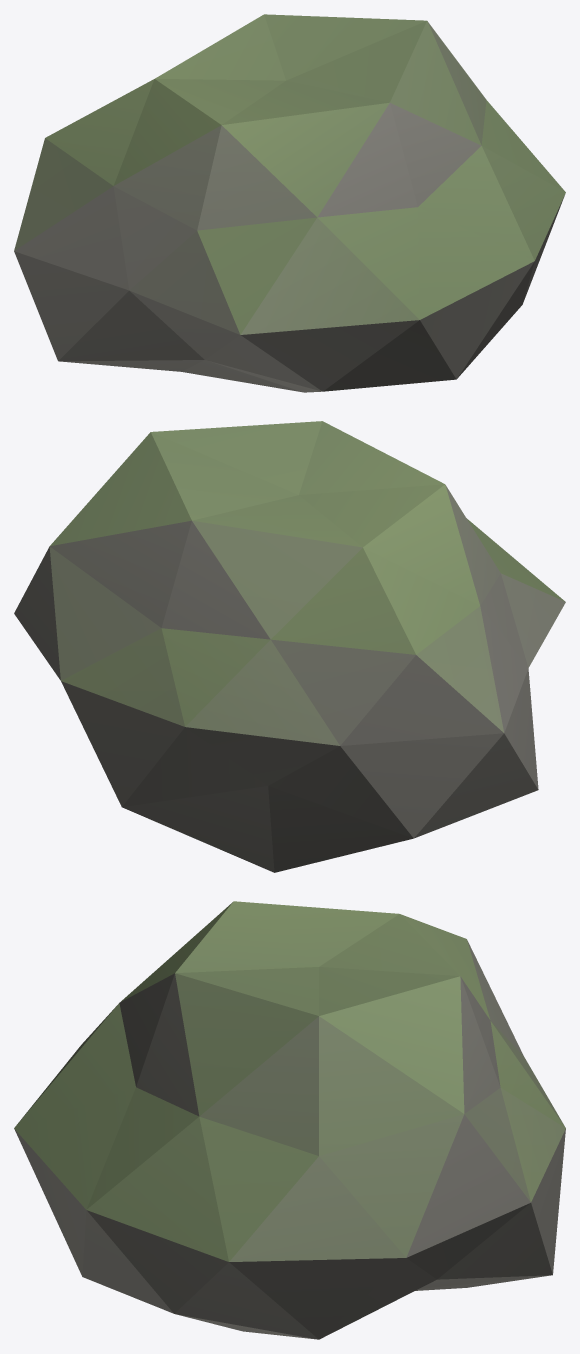
The model's file is rock_small.glb.
The picture shows the model from 3 angles, top to bottom: view 1: azimuth 30°, elevation 25°; view 2: azimuth 150°, elevation 25°; view 3: azimuth 270°, elevation 25°; orthographic projection. The views are drawn at different scales.
Parts seen in each view (by area): view 1: Rock_small-col; view 2: Rock_small-col; view 3: Rock_small-col.
Boxes of the visible parts, <box> form: Rock_small-col: <box>14,14,565,392</box>; Rock_small-col: <box>14,421,565,872</box>; Rock_small-col: <box>14,901,565,1339</box>.
Bounding box in the file's own units: 0.8582 × 0.5662 × 0.7584.
